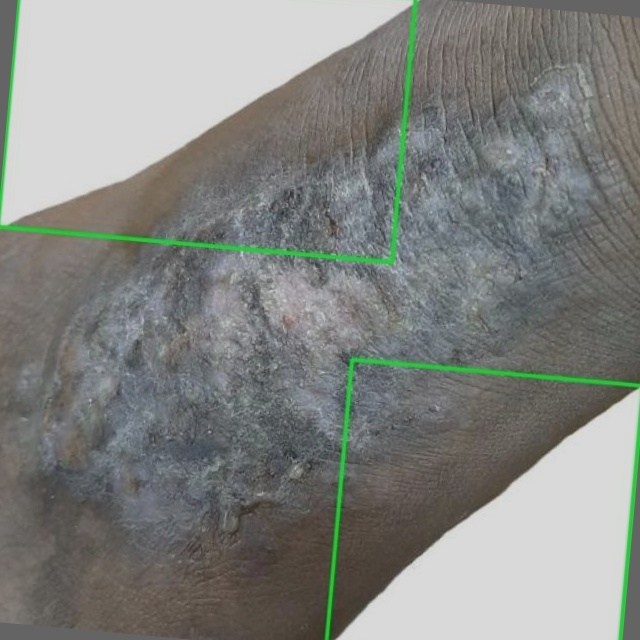Contact Dermatitis: (0, 0, 415, 262), (327, 360, 639, 639)
